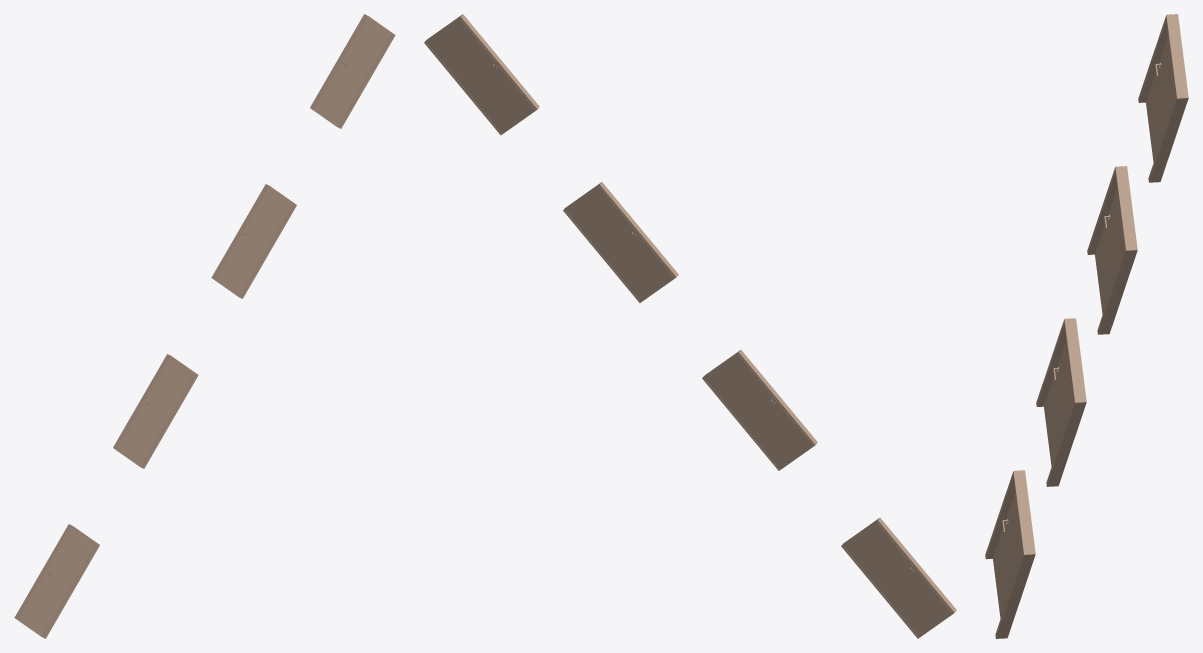
3 views of the same model, side by side, from view 1: azimuth 30°, elevation 25°; view 2: azimuth 150°, elevation 25°; view 3: azimuth 270°, elevation 25° (orthographic). The views are drawn at different scales.
Parts seen in each view (by area): view 1: mesh; view 2: mesh; view 3: mesh.
Part boxes in pixels (x1,y1,x2,y2): mesh: (14, 14, 395, 638); mesh: (424, 14, 956, 638); mesh: (985, 14, 1188, 638).
Bounding box in the file's own units: 9.27 × 10.39 × 1.97.
